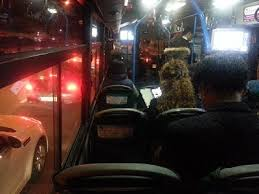seat: (98, 100, 146, 145)
